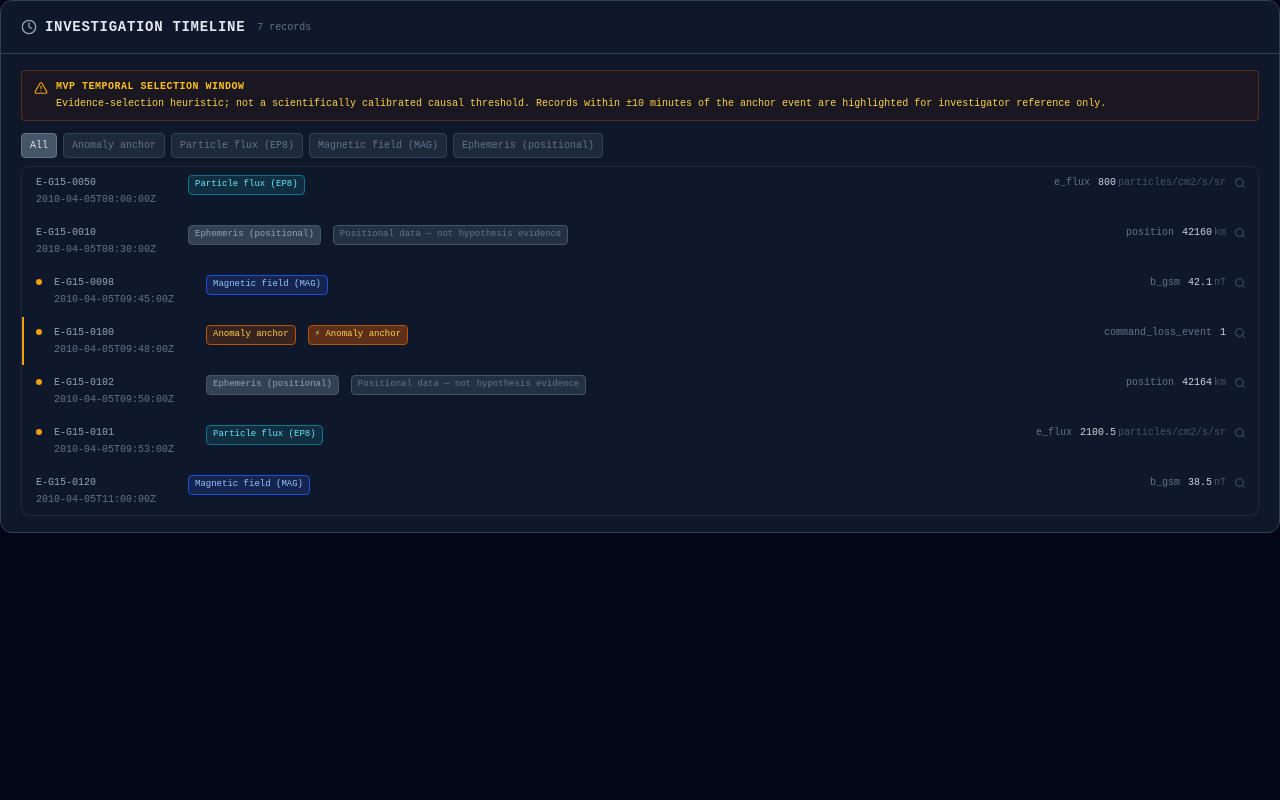
InvestigationTimeline › TL-9: provenance panel shows all 12 required evidence fields
The image size is (1280, 800).
Click the button with test id "timeline-row-E-G15-0101".
click(84, 433)  # box [22,417,1258,465]
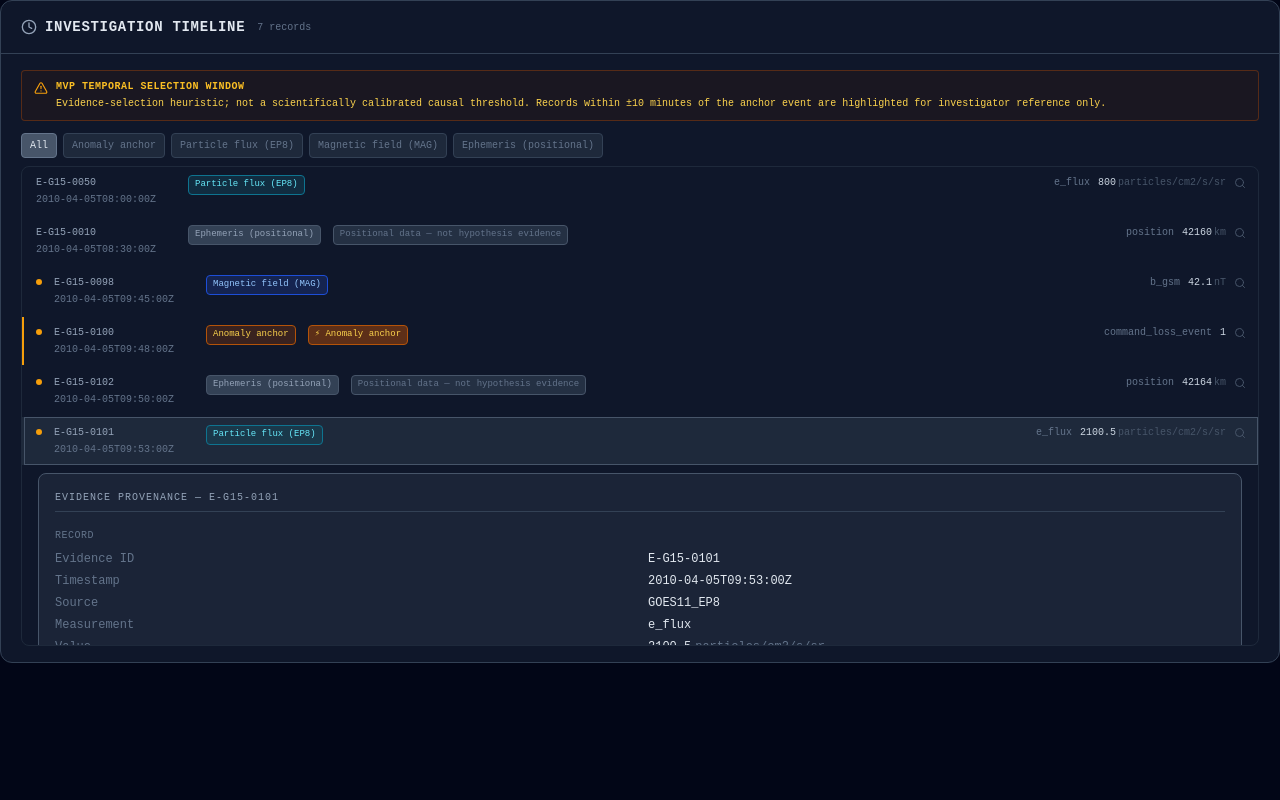
Expected: the text with test id "tl-prov-evidence-id" reads "E-G15-0101", [648,552,720,566]
Expected: the text with test id "tl-prov-timestamp" reads "2010-04-05T09:53:00Z", [648,574,792,588]
Expected: the text with test id "tl-prov-source" reads "GOES11_EP8", [648,596,720,610]
